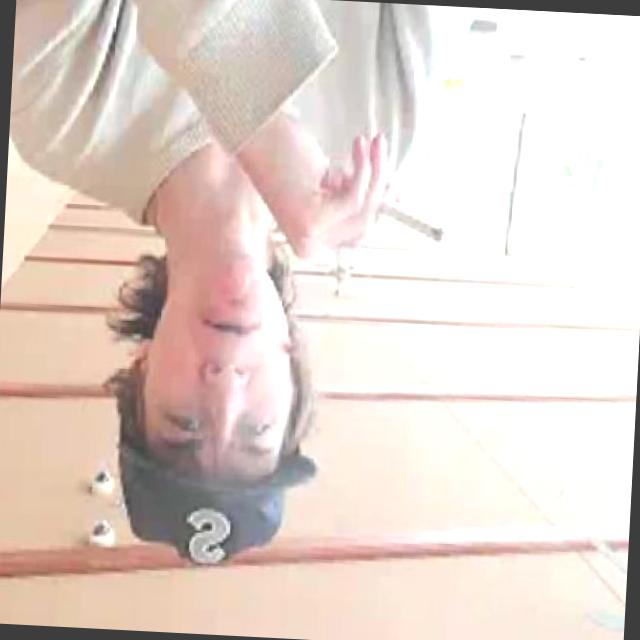cigarette: (356, 177, 463, 264)
